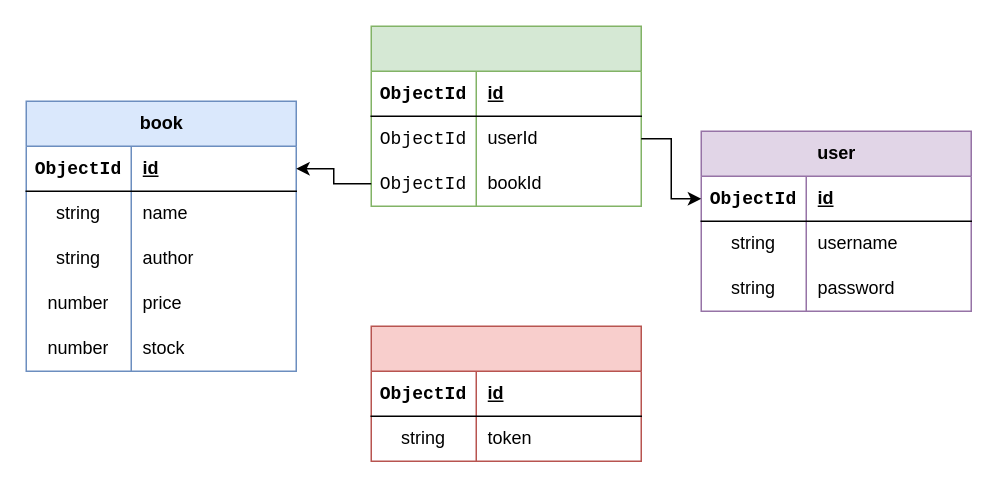
Image size: 998x488. Some labels were removed from this diagram. Each missing label, with the box of its shape:
cart: (370, 25, 641, 206)
token black list: (370, 325, 641, 461)
